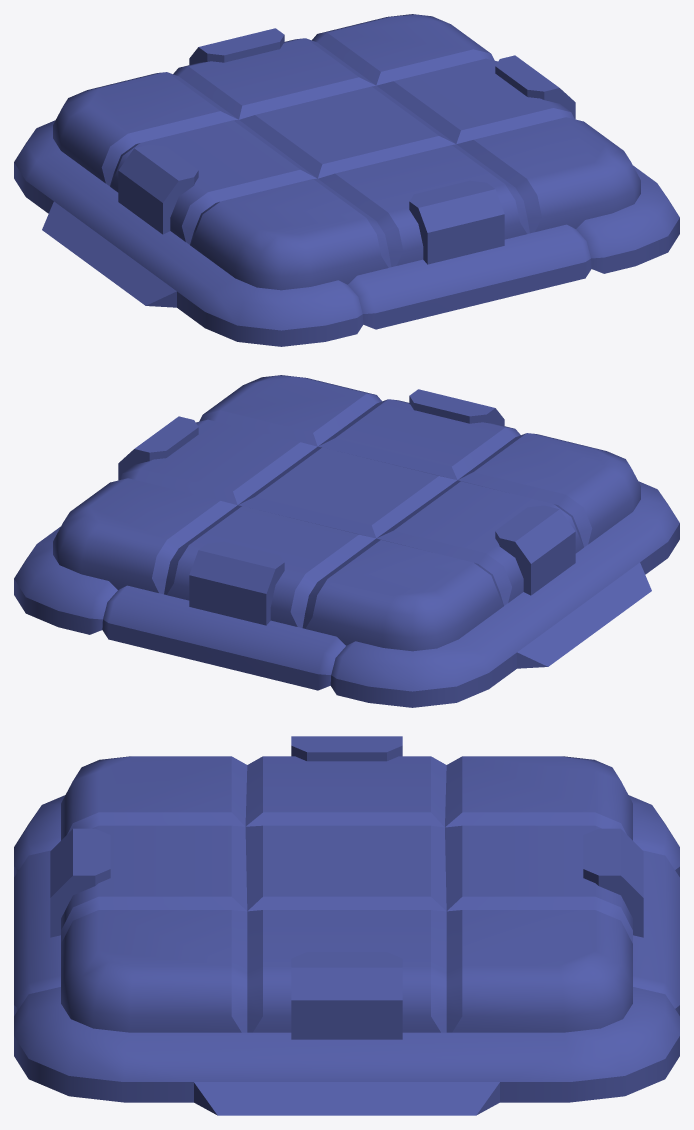
Rendered from obj_light_arealight_off.fbx.
The picture shows the model from 3 angles, top to bottom: view 1: azimuth 30°, elevation 25°; view 2: azimuth 150°, elevation 25°; view 3: azimuth 270°, elevation 25°; orthographic projection. The views are drawn at different scales.
Visible parts, largest first — view 1: obj_light_arealight_off1; view 2: obj_light_arealight_off1; view 3: obj_light_arealight_off1.
Part boxes in pixels (left/top/right/bottom): obj_light_arealight_off1: left=14, top=14, right=679, bottom=346; obj_light_arealight_off1: left=14, top=375, right=679, bottom=707; obj_light_arealight_off1: left=14, top=736, right=679, bottom=1115.
Size of the model in its own units: 6.56 by 1.09 by 6.
